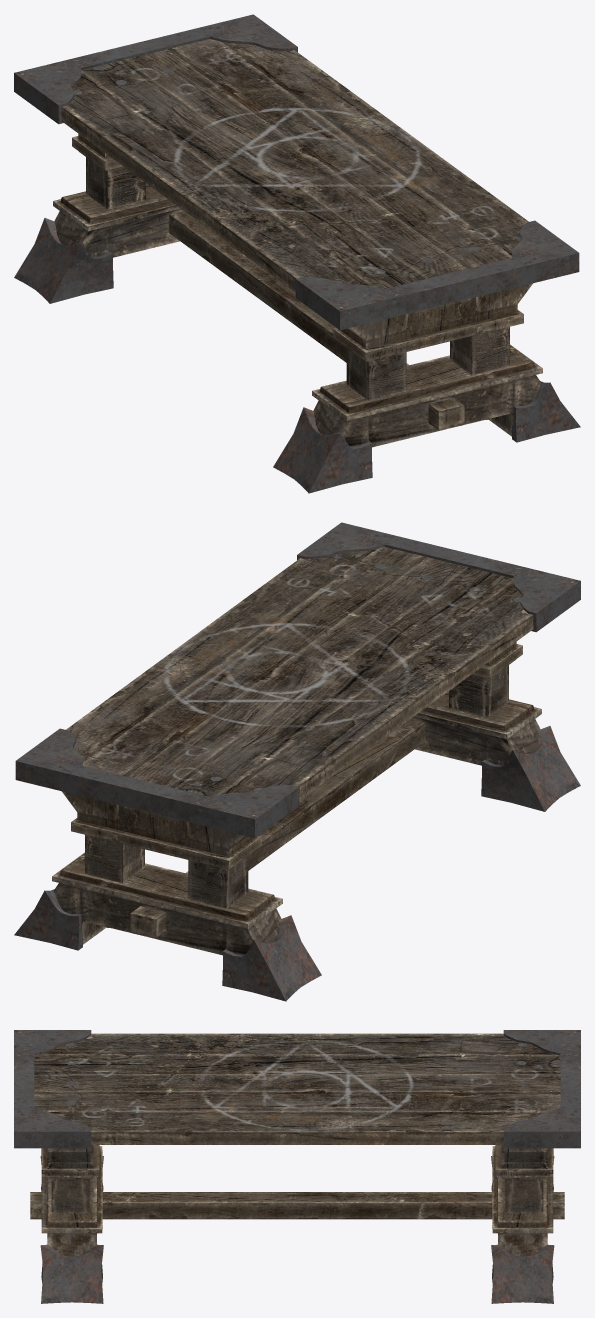
The model's file is table.glb.
3 renders of one model, top to bottom at view 1: azimuth 30°, elevation 25°; view 2: azimuth 150°, elevation 25°; view 3: azimuth 270°, elevation 25°, orthographic. The views are drawn at different scales.
Visible parts, largest first — view 1: Object_2; view 2: Object_2; view 3: Object_2.
Part boxes in pixels (box(x1,y1,x2,y2)): Object_2: box(14, 14, 580, 493); Object_2: box(14, 522, 580, 1001); Object_2: box(14, 1030, 580, 1303).
Bounding box in the file's own units: 77.76 × 51.84 × 161.
1 material, 1 textured.
